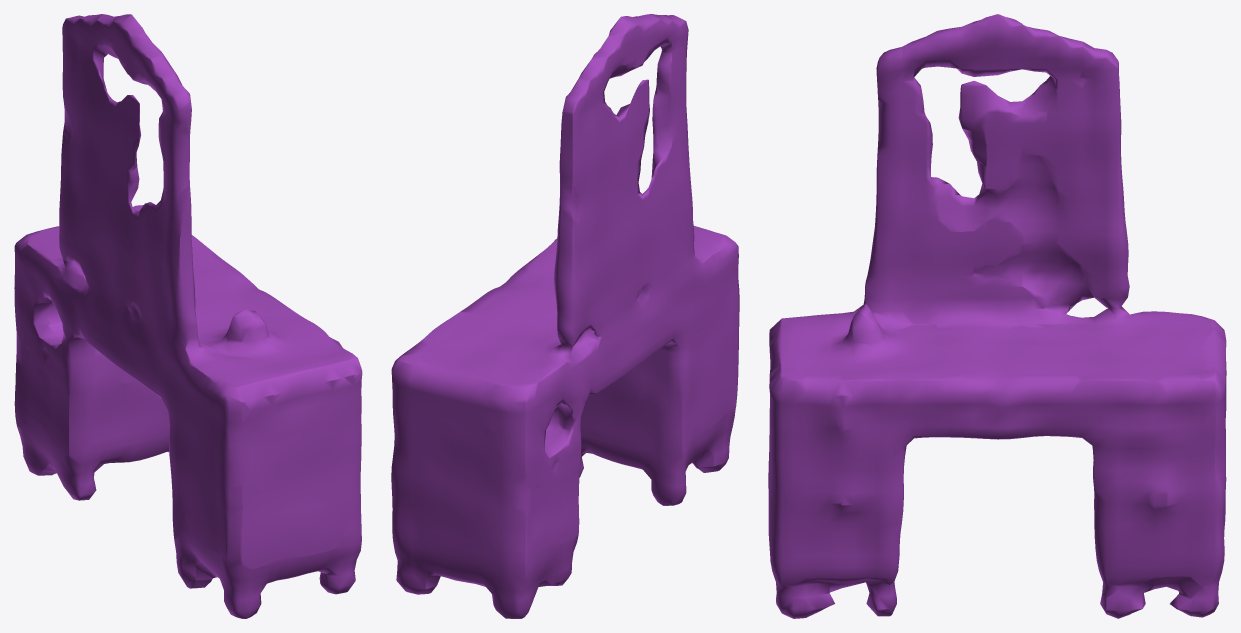
File: table_11_3.obj
The picture shows the model from 3 angles, left to right: view 1: azimuth 30°, elevation 25°; view 2: azimuth 150°, elevation 25°; view 3: azimuth 270°, elevation 25°; orthographic projection. The views are drawn at different scales.
Bounding box in the file's own units: 0.2278 × 0.7876 × 0.5955.
